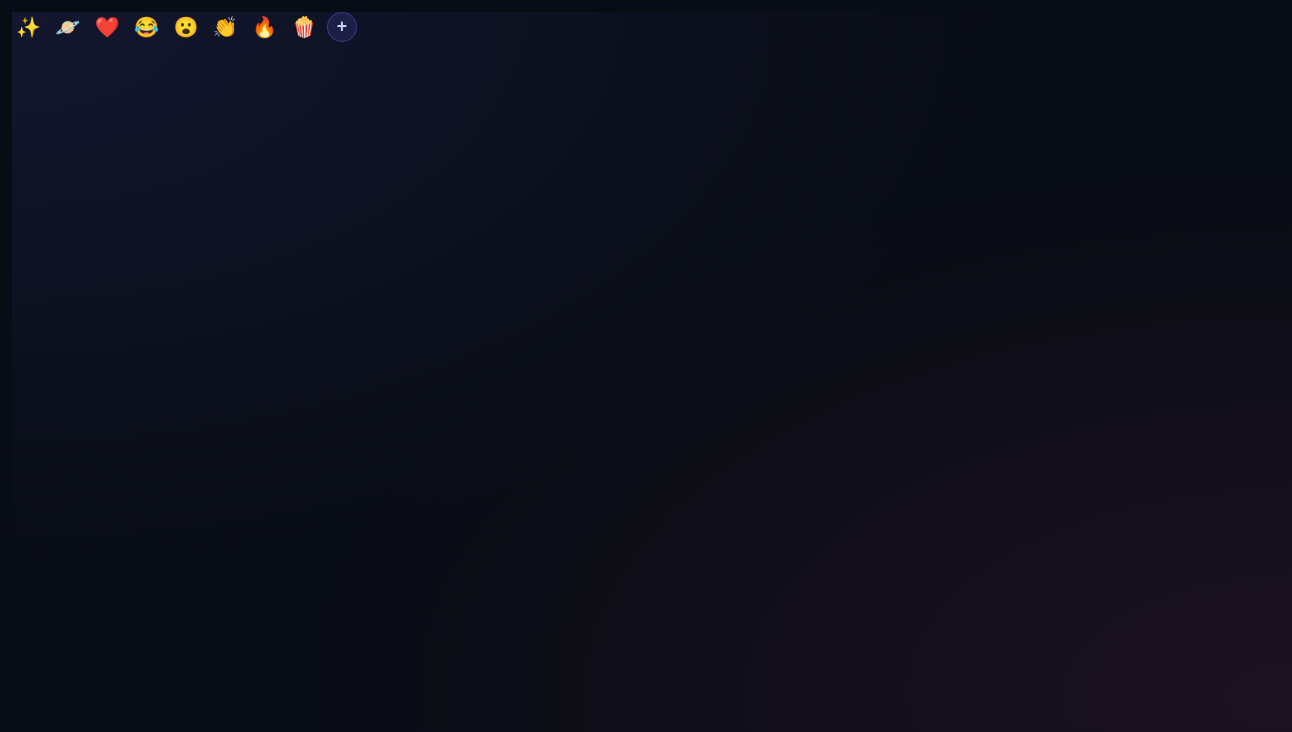
Test: Reactions — picker persistente + layout › el botón + expande la fila extra con los emojis complementarios
The width and height of the screenshot is (1292, 732).
Click the button named "mostrar más reacciones".
click(342, 27)  # box [327, 12, 357, 42]
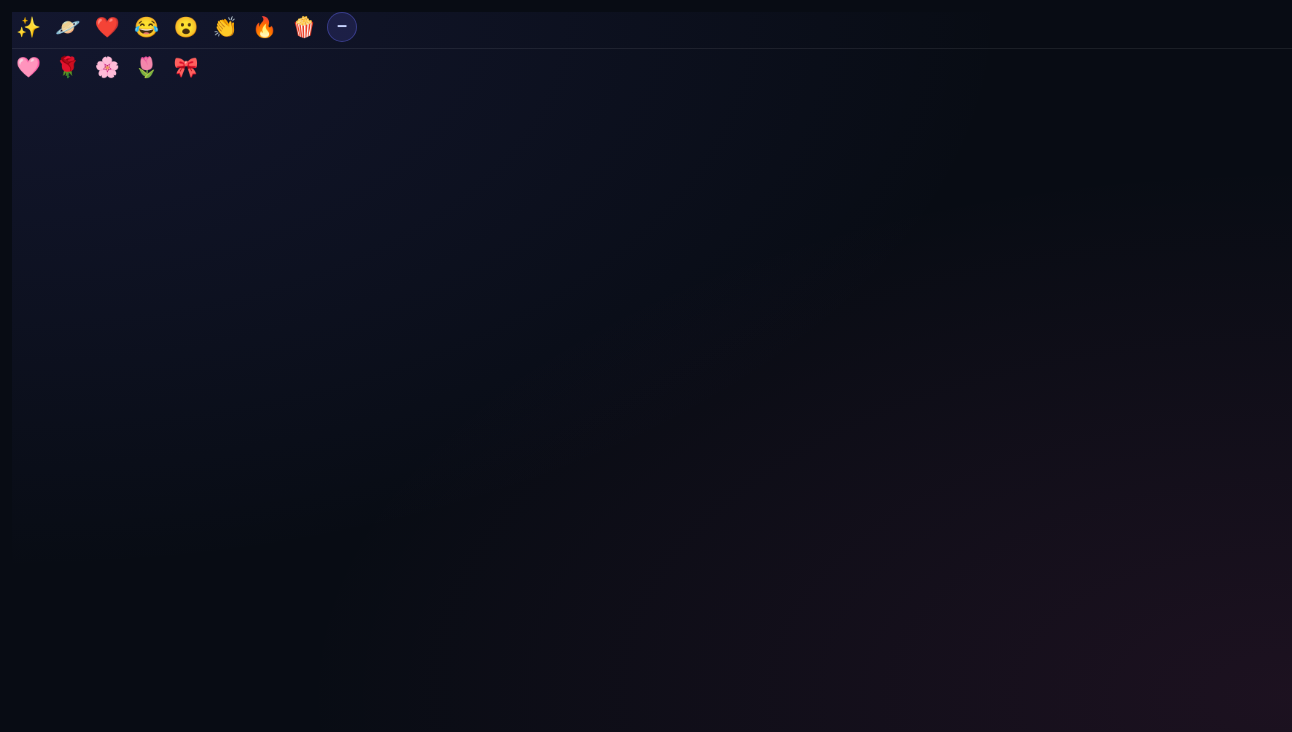
Expected: the element with class "reactions-bar__row--extra" is shown, [12, 48, 1291, 79]
